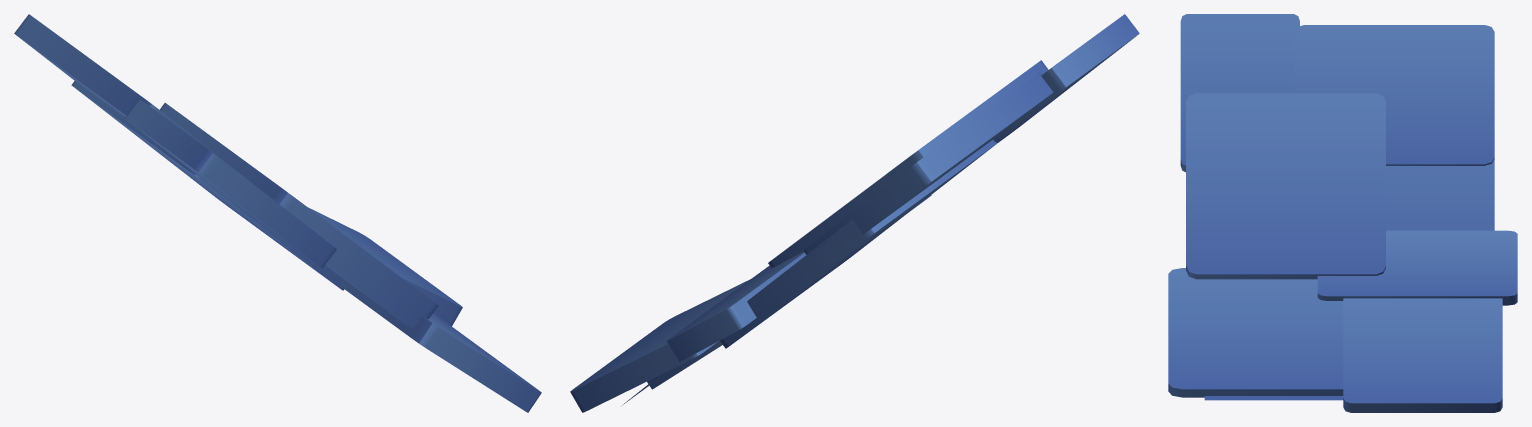
File: RoofTile_Mid_2.fbx
3 renders of one model, left to right at view 1: azimuth 30°, elevation 25°; view 2: azimuth 150°, elevation 25°; view 3: azimuth 270°, elevation 25°, orthographic. The views are drawn at different scales.
Parts seen in each view (by area): view 1: rooftile_mid2_LOD0; view 2: rooftile_mid2_LOD0; view 3: rooftile_mid2_LOD0.
Part boxes in pixels (left/top/right/bottom): rooftile_mid2_LOD0: left=14, top=14, right=541, bottom=412; rooftile_mid2_LOD0: left=570, top=14, right=1139, bottom=412; rooftile_mid2_LOD0: left=1168, top=14, right=1517, bottom=412.
Bounding box in the file's own units: 1.22 × 1.06 × 1.26.
